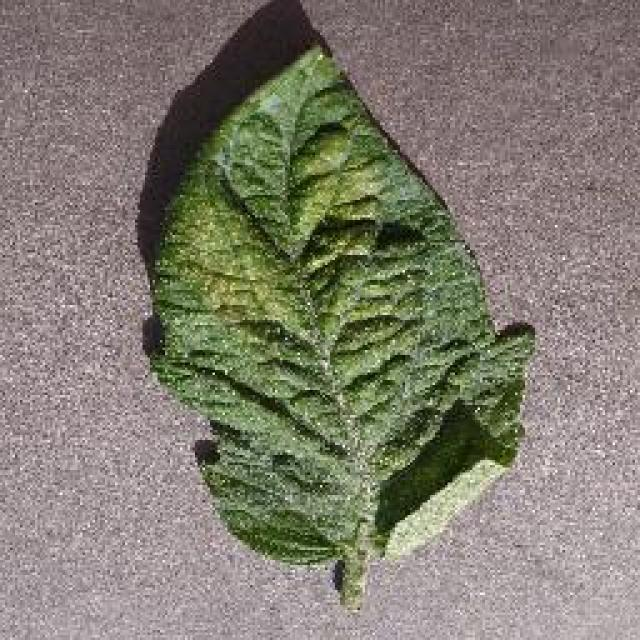Tomato spider mites leaf: (152, 31, 536, 564)
